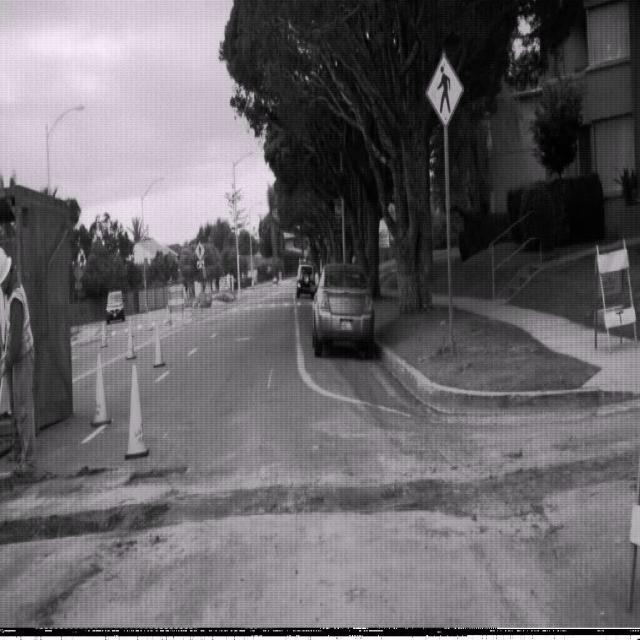pedestrianCrossing: (425, 51, 464, 128), (194, 239, 205, 261)
